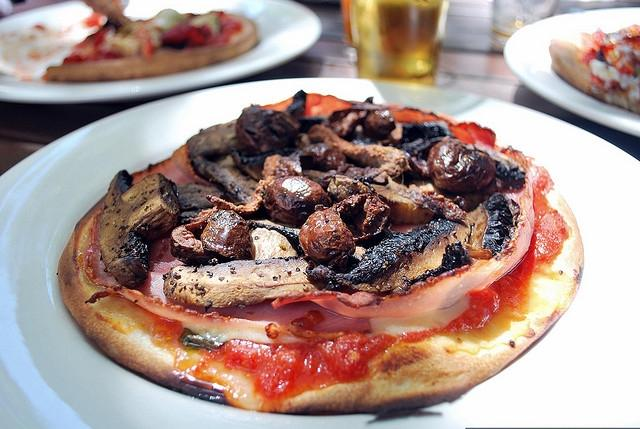mushroom: (306, 217, 492, 296), (162, 228, 328, 312), (98, 170, 180, 290), (299, 194, 391, 270), (170, 210, 256, 268), (307, 120, 404, 168), (426, 139, 496, 193), (466, 193, 520, 258), (263, 176, 333, 226), (236, 108, 301, 156), (371, 176, 434, 224), (191, 160, 258, 204), (298, 142, 346, 172), (176, 183, 225, 212), (402, 120, 458, 143), (328, 175, 372, 201), (362, 109, 396, 142), (284, 90, 308, 120), (214, 154, 238, 168)
